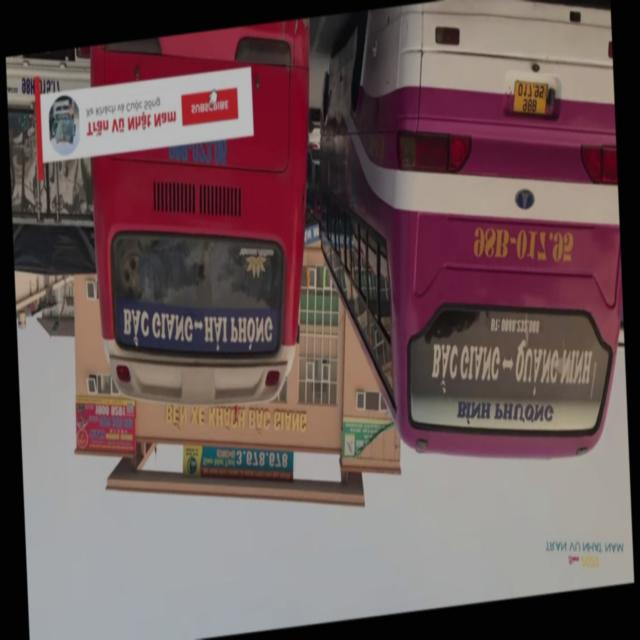bien_vang: (510, 76, 549, 120)
